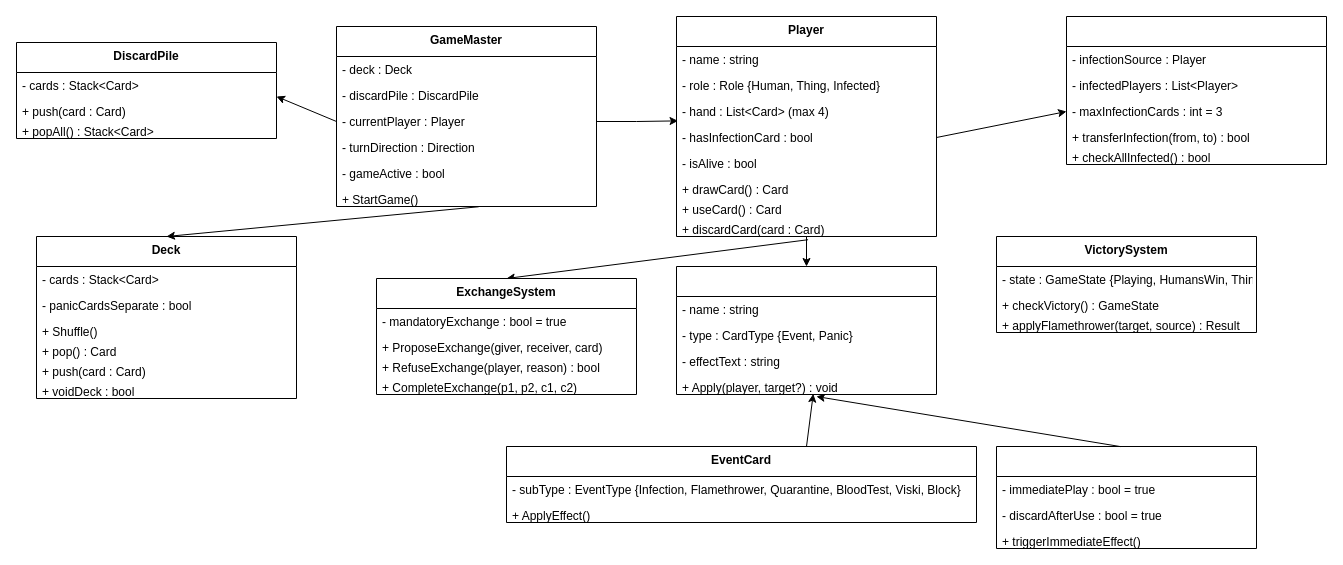
The diagram is 1343 pixels wide and 565 high, and some of its shapes have lost their labels. The shapes that lost their labels are listed below. From the top down, each one's box as (x1, y1, x2, y2) in pixels, then its label:
(1066, 16, 1326, 164): InfectionSystem
(676, 266, 936, 394): «abstract» Card
(996, 446, 1256, 548): PanicCard
